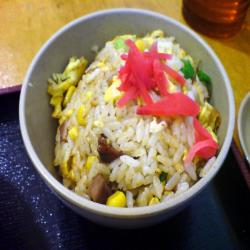rice: (64, 61, 185, 181)
